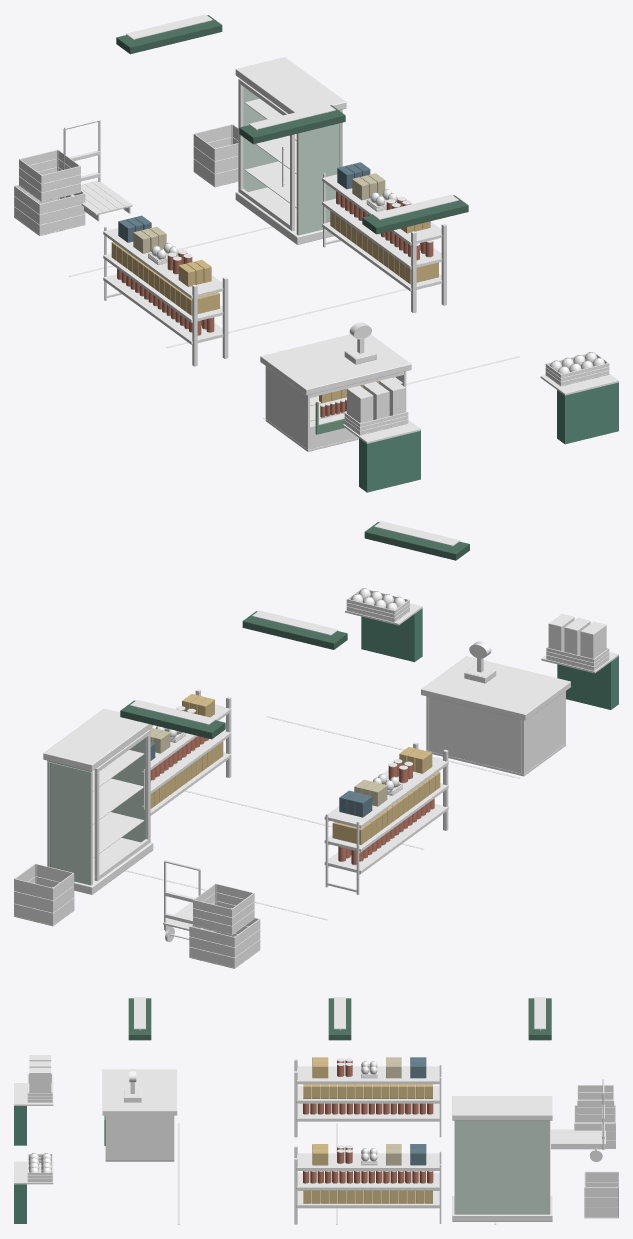
The model's file is bodega_fittings.glb.
3 renders of one model, top to bottom at view 1: azimuth 30°, elevation 25°; view 2: azimuth 150°, elevation 25°; view 3: azimuth 270°, elevation 25°, orthographic. The views are drawn at different scales.
Visible parts, largest first — view 1: cooler_body, counter_top, counter_case, right_bulkhead, left_bulkhead, cooler_top_trim, stock_left_window_crates, delivery_crate_left_upper, delivery_crate_right, delivery_crate_left_lower, aisle_a_goods_high, cooler_door_frame (+22 smaller); view 2: cooler_body, counter_case, counter_top, cooler_top_trim, delivery_crate_right, stock_left_window_crates, right_bulkhead, delivery_crate_left_upper, delivery_crate_left_lower, left_bulkhead, cooler_door_frame, aisle_a_goods_high (+21 smaller); view 3: cooler_body, counter_case, counter_top, cooler_top_trim, aisle_a_goods_high, aisle_b_goods_low, aisle_2_shelf_high, aisle_1_shelf_high, delivery_crate_right, aisle_b_goods_high, aisle_a_goods_low, aisle_2_shelf_middle (+25 smaller).
Boxes of the visible parts, x1,y1,x2,y2 form: cooler_body: [243, 87, 342, 235]; counter_top: [260, 334, 411, 395]; counter_case: [265, 366, 406, 451]; right_bulkhead: [540, 374, 618, 444]; left_bulkhead: [343, 419, 420, 492]; cooler_top_trim: [235, 57, 346, 113]; stock_left_window_crates: [344, 378, 408, 435]; delivery_crate_left_upper: [19, 149, 80, 201]; delivery_crate_right: [193, 124, 238, 187]; delivery_crate_left_lower: [14, 184, 85, 235]; aisle_a_goods_high: [111, 242, 219, 315]; cooler_door_frame: [238, 78, 294, 230]; cooler_body: [47, 738, 145, 885]; counter_case: [426, 691, 565, 776]; counter_top: [421, 656, 570, 720]; cooler_top_trim: [43, 708, 153, 771]; delivery_crate_right: [14, 863, 74, 926]; stock_left_window_crates: [546, 613, 609, 670]; right_bulkhead: [345, 603, 422, 662]; delivery_crate_left_upper: [193, 883, 254, 935]; delivery_crate_left_lower: [189, 918, 260, 968]; left_bulkhead: [541, 652, 618, 709]; cooler_door_frame: [94, 730, 150, 880]; aisle_a_goods_high: [332, 771, 440, 844]; cooler_body: [454, 1120, 550, 1214]; counter_case: [105, 1115, 174, 1161]; counter_top: [102, 1069, 177, 1115]; cooler_top_trim: [452, 1096, 552, 1120]; aisle_a_goods_high: [303, 1084, 432, 1098]; aisle_b_goods_low: [303, 1190, 432, 1203]; aisle_2_shelf_high: [296, 1153, 439, 1170]; aisle_1_shelf_high: [296, 1066, 439, 1083]; delivery_crate_right: [584, 1171, 618, 1218]; aisle_b_goods_high: [303, 1171, 433, 1183]; aisle_a_goods_low: [303, 1103, 433, 1114]; aisle_2_shelf_middle: [296, 1172, 439, 1189].
Size of the model in its own units: 4.09 by 2.98 by 10.13.
